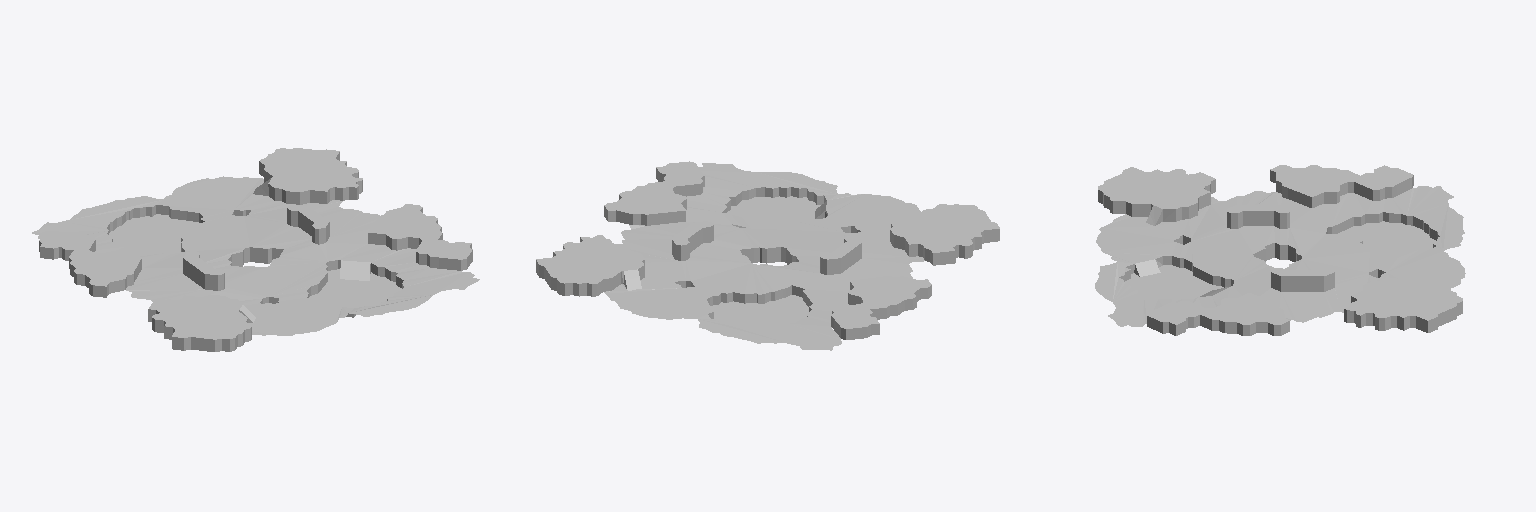
File: caverneXELNAGA.obj
3 renders of one model, left to right at view 1: azimuth 30°, elevation 25°; view 2: azimuth 150°, elevation 25°; view 3: azimuth 270°, elevation 25°, orthographic.
Visible parts, largest first — view 1: Plane.006; view 2: Plane.006; view 3: Plane.006.
Boxes of the visible parts, x1,y1,x2,y2 form: Plane.006: [32, 148, 479, 351]; Plane.006: [536, 161, 999, 350]; Plane.006: [1095, 165, 1465, 335].
Bounding box in the file's own units: 9.23 × 0.8454 × 9.04.